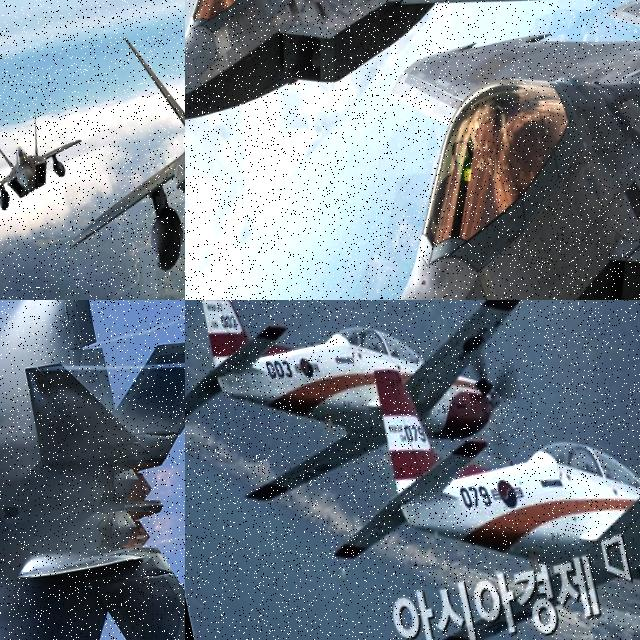F22: (205, 0, 640, 300), (0, 300, 185, 640), (185, 0, 618, 122), (19, 0, 185, 283), (0, 114, 91, 215)
KT-1: (299, 300, 640, 640), (185, 300, 564, 497)
